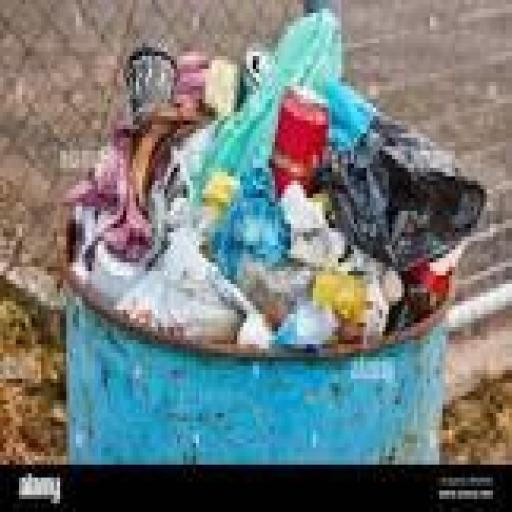poubelle_pleine: (26, 30, 489, 466)
